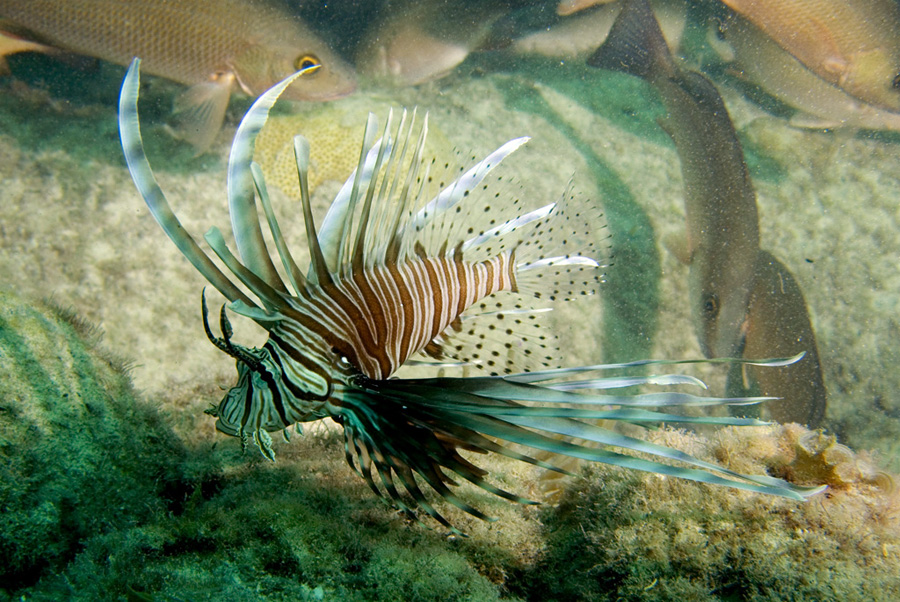Pterois_volitans: (96, 51, 838, 531)
